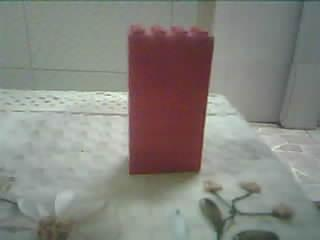lego: (126, 23, 215, 176)
